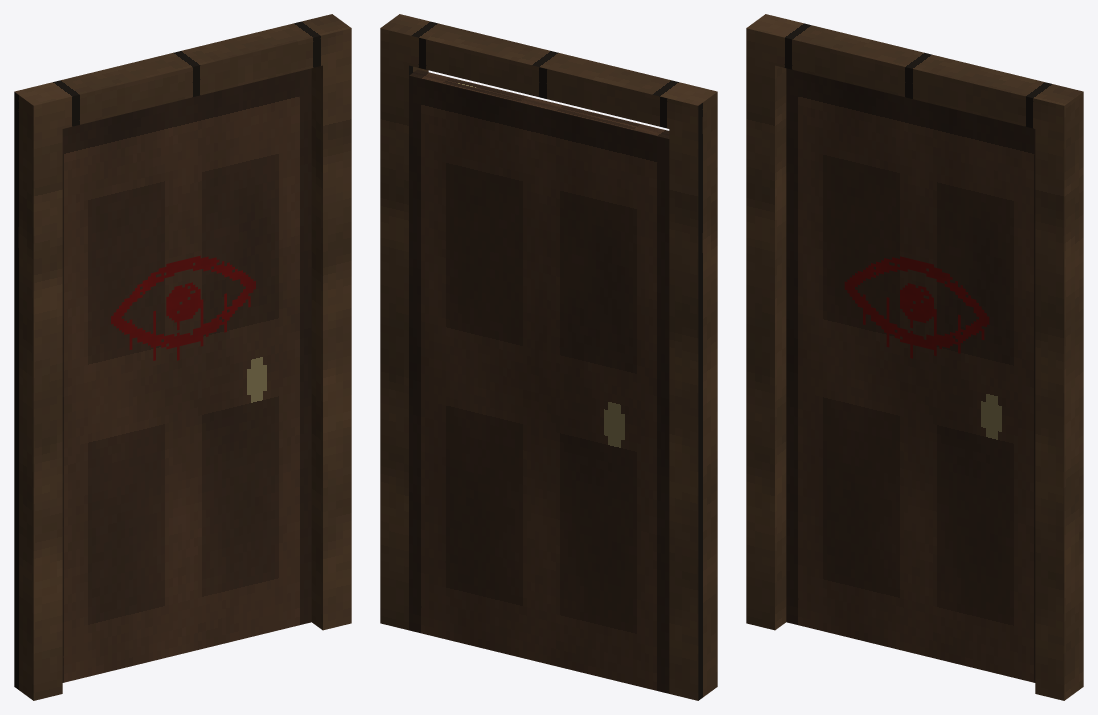
The model's file is int_eye_door.glb.
3 renders of one model, left to right at view 1: azimuth 30°, elevation 25°; view 2: azimuth 150°, elevation 25°; view 3: azimuth 330°, elevation 25°, orthographic.
Visible parts, largest first — view 1: detail; view 2: detail; view 3: detail.
Part boxes in pixels (x1=…): detail: x1=14, y1=14, x2=351, y2=700; detail: x1=380, y1=14, x2=717, y2=700; detail: x1=746, y1=14, x2=1083, y2=700.
Size of the model in its own units: 1.32 by 2.36 by 0.14.
Materials: 3 (3 with a texture image).
